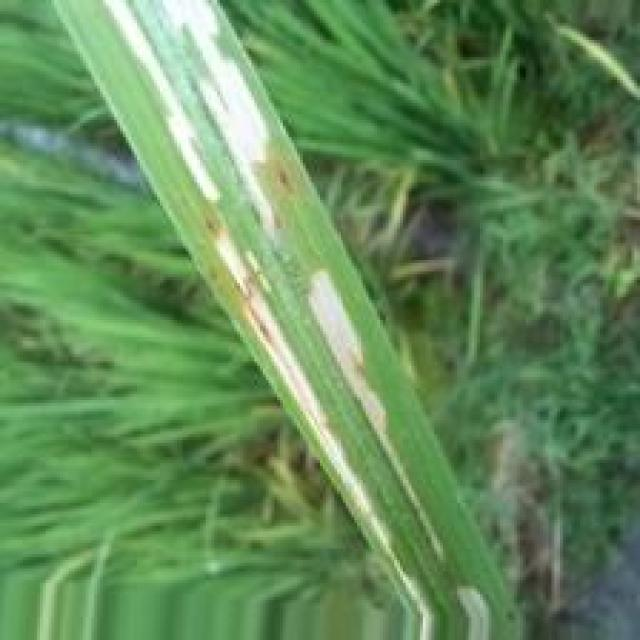Rice_Hispa: (214, 226, 432, 640), (306, 259, 445, 561), (157, 0, 283, 228), (109, 0, 212, 202)
